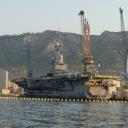Portanaves: (11, 43, 123, 102)
